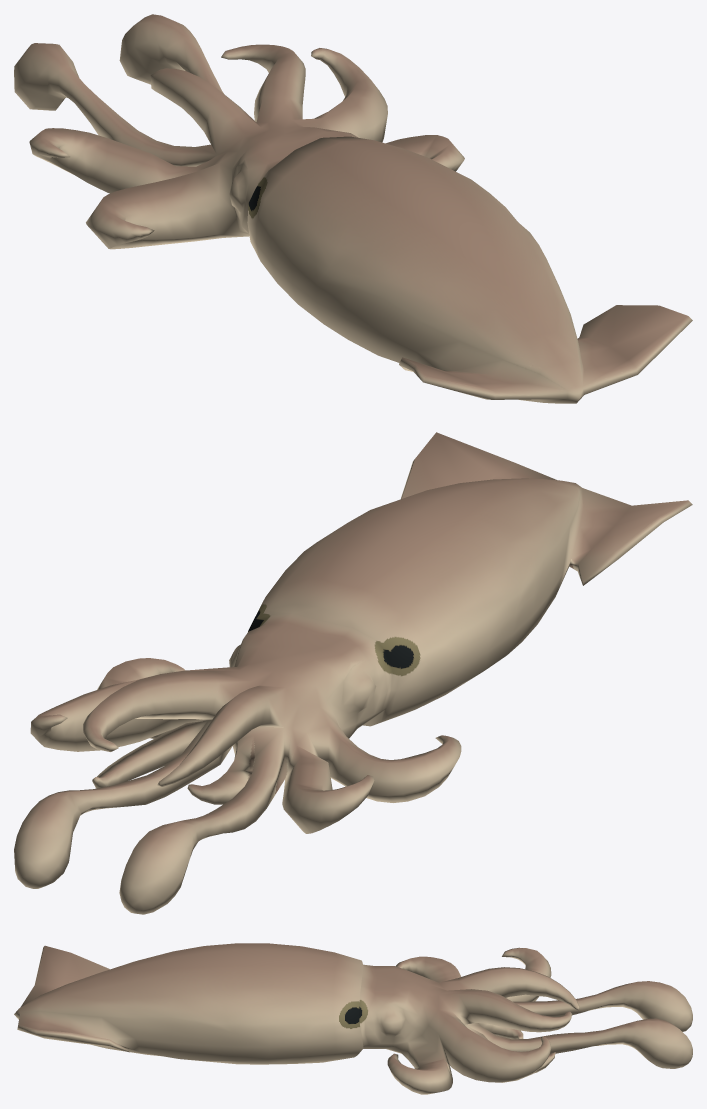
Rendered from squid.fbx.
3 views of the same model, one above another, from view 1: azimuth 30°, elevation 25°; view 2: azimuth 150°, elevation 25°; view 3: azimuth 270°, elevation 25° (orthographic). The views are drawn at different scales.
Parts seen in each view (by area): view 1: squid; view 2: squid; view 3: squid.
Part boxes in pixels (box(x1,y1,x2,y2)): squid: box(14, 14, 692, 403); squid: box(14, 432, 692, 914); squid: box(14, 943, 692, 1094).
Bounding box in the file's own units: 0.1159 × 0.0455 × 0.28.
Materials: 1 (1 with a texture image).
